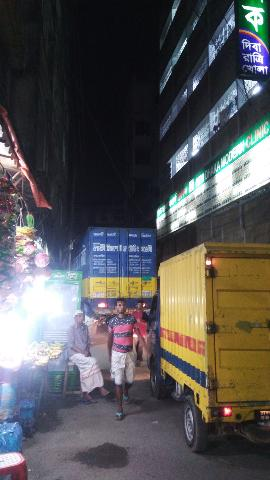truck: (151, 234, 270, 450), (70, 218, 160, 316)
